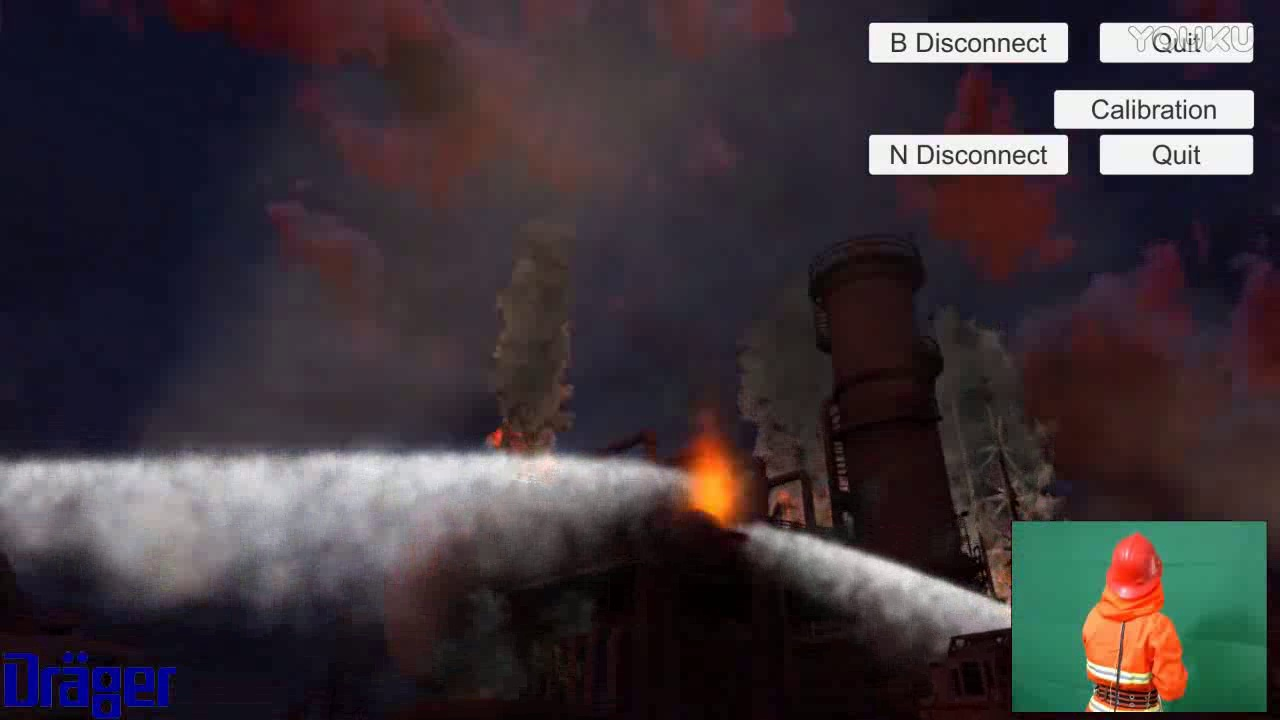fire: (676, 426, 747, 543)
